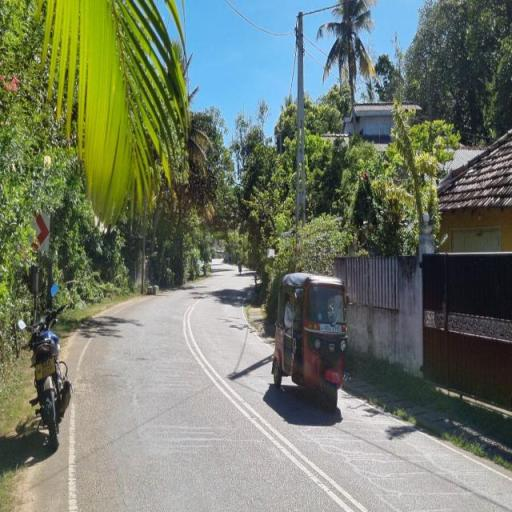double_white_line: (182, 301, 368, 512)
